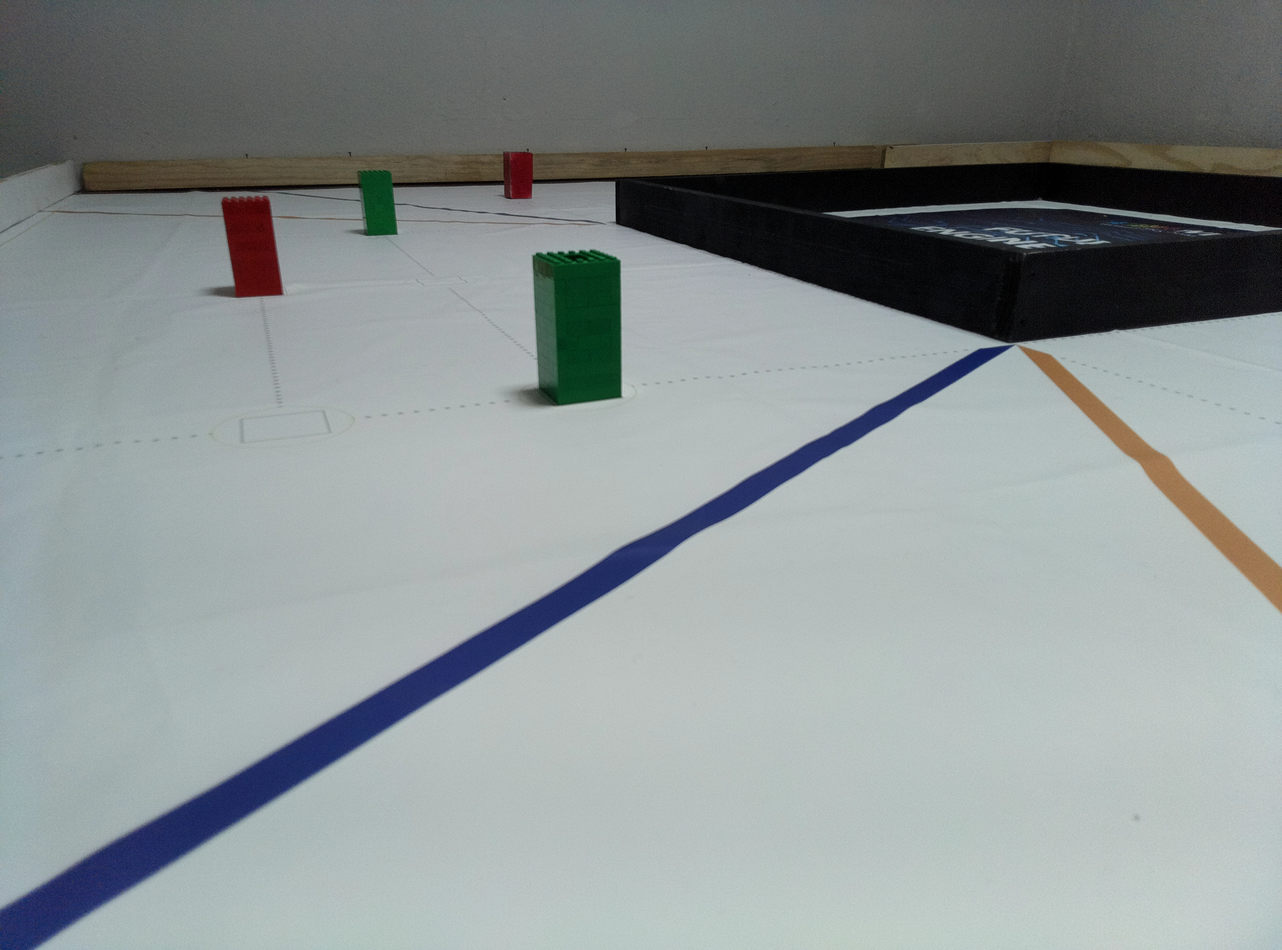greenbox: (523, 243, 628, 404), (355, 165, 406, 238)
redbox: (218, 193, 289, 298), (502, 149, 536, 200)
